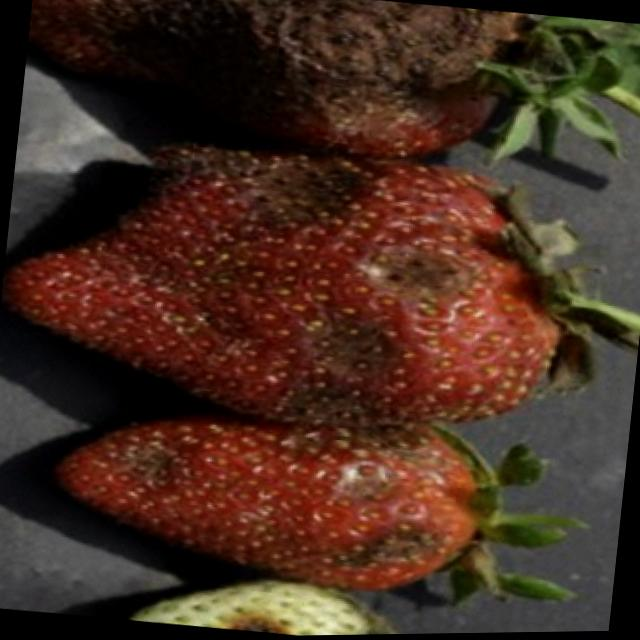Anthracnose Fruit Rot: (129, 143, 487, 423), (28, 0, 521, 152), (118, 421, 451, 577), (218, 608, 294, 635)
